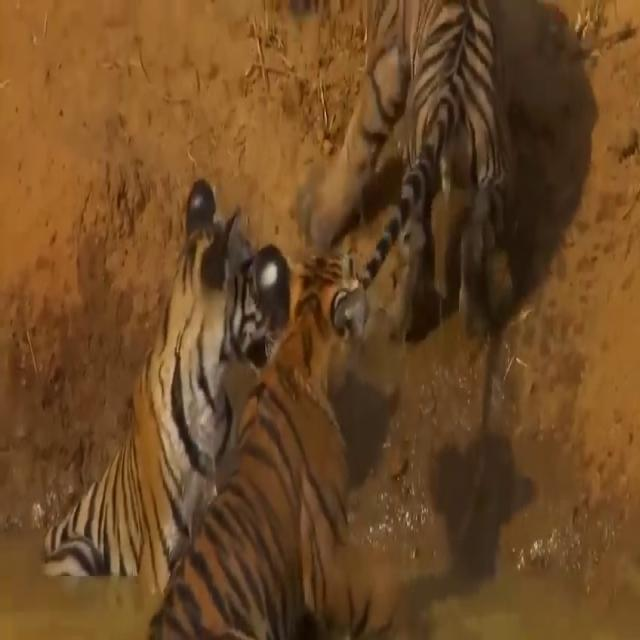tiger: (42, 177, 268, 590), (154, 288, 353, 637)
